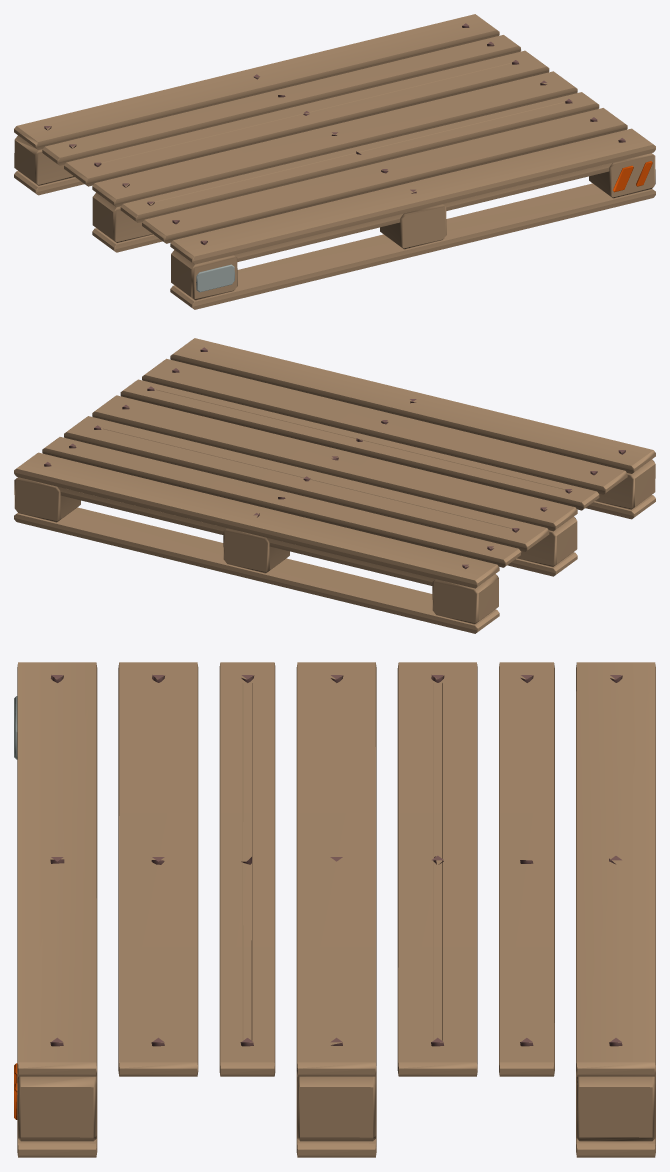
The model's file is palette.glb.
3 renders of one model, top to bottom at view 1: azimuth 30°, elevation 25°; view 2: azimuth 150°, elevation 25°; view 3: azimuth 270°, elevation 25°, orthographic. The views are drawn at different scales.
Visible parts, largest first — view 1: corps__orange_pale, corps__gris_clair, corps__rouge_fonce, corps__orange; view 2: corps__orange_pale, corps__rouge_fonce; view 3: corps__orange_pale, corps__rouge_fonce.
Part boxes in pixels (x1=…): corps__orange_pale: x1=14, y1=14, x2=655, y2=309; corps__gris_clair: x1=196, y1=264, x2=234, y2=292; corps__rouge_fonce: x1=44, y1=23, x2=625, y2=244; corps__orange: x1=613, y1=161, x2=652, y2=192; corps__orange_pale: x1=14, y1=338, x2=655, y2=633; corps__rouge_fonce: x1=44, y1=347, x2=625, y2=568; corps__orange_pale: x1=17, y1=662, x2=655, y2=1157; corps__rouge_fonce: x1=50, y1=675, x2=622, y2=1046.
Size of the model in its own units: 1.3 by 0.149 by 0.8742.
